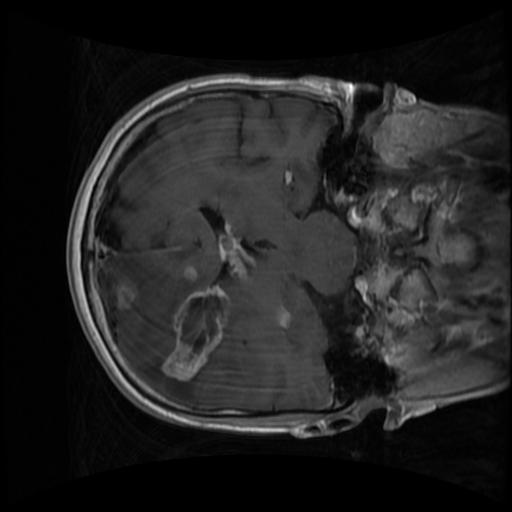glioma: (160, 285, 231, 383)
